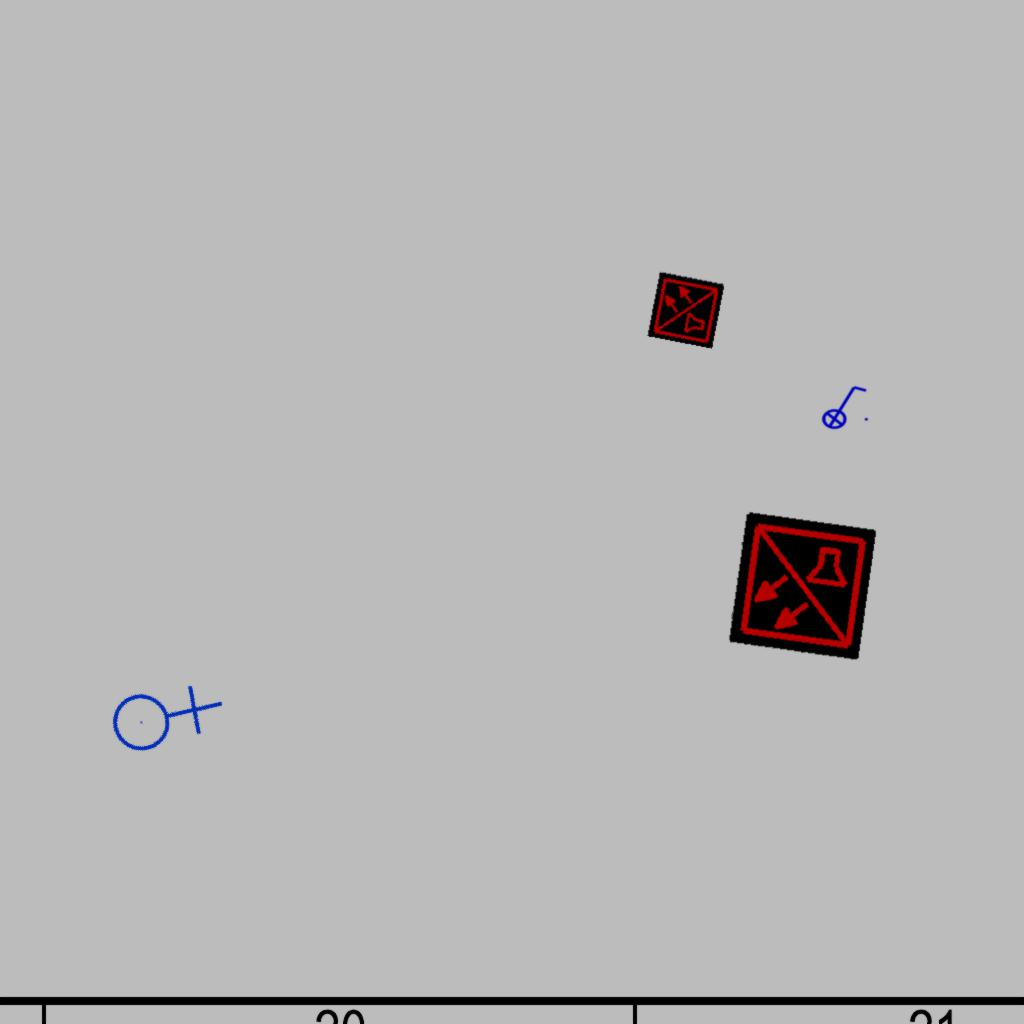Ausschalter_beleuchtet: (815, 382, 871, 430)
Elektroanschluss_allgemein_230V_Geraeteanschlussdose_230V: (93, 648, 228, 780)
OKW_Multisensormelder_(Kombination_optischer_Rauch-Kahlenmonoxid_Waerme-Melder): (727, 511, 877, 661), (647, 271, 725, 349)
